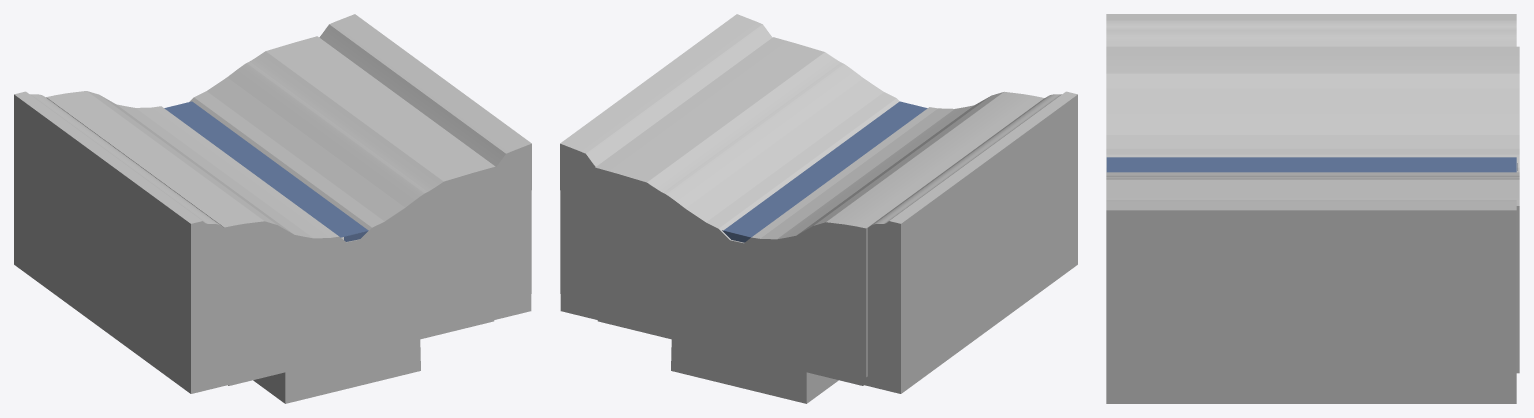
The model's file is 内叠阶地.gltf.
3 views of the same model, side by side, from view 1: azimuth 30°, elevation 25°; view 2: azimuth 150°, elevation 25°; view 3: azimuth 270°, elevation 25° (orthographic). The views are drawn at different scales.
Visible parts, largest first — view 1: node_1_-9044, node_1_-9036, node_2_-9038, node_2_-9046, node_3_-9040, node_ (2)_-9052, node_4_-9042; view 2: node_1_-9044, node_1_-9036, node_2_-9046, node_ (2)_-9052, node_2_-9038; view 3: node_1_-9036, node_1_-9044, node_ (2)_-9052.
Part boxes in pixels (x1,y1,x2,y2): node_1_-9044: (46, 36, 496, 376); node_1_-9036: (14, 14, 531, 393); node_2_-9038: (228, 180, 494, 385); node_2_-9046: (253, 281, 420, 403); node_3_-9040: (256, 212, 456, 366); node_ (2)_-9052: (164, 101, 368, 241); node_4_-9042: (293, 258, 407, 347); node_1_-9044: (594, 37, 1044, 377); node_1_-9036: (560, 14, 1077, 393); node_2_-9046: (671, 330, 838, 403); node_ (2)_-9052: (722, 101, 927, 242); node_2_-9038: (597, 312, 863, 385); node_1_-9036: (1106, 14, 1516, 403); node_1_-9044: (1106, 46, 1519, 373); node_ (2)_-9052: (1106, 157, 1517, 172).
Size of the model in its own units: 8.28 by 4.71 by 7.5.
